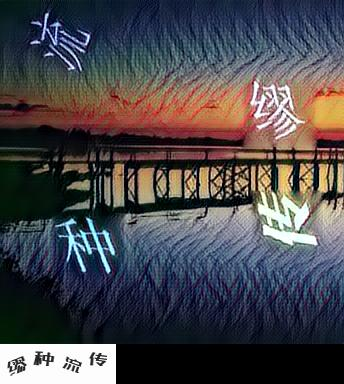character: (26, 9, 94, 76), (51, 215, 121, 278), (254, 188, 323, 251), (248, 78, 308, 142)
